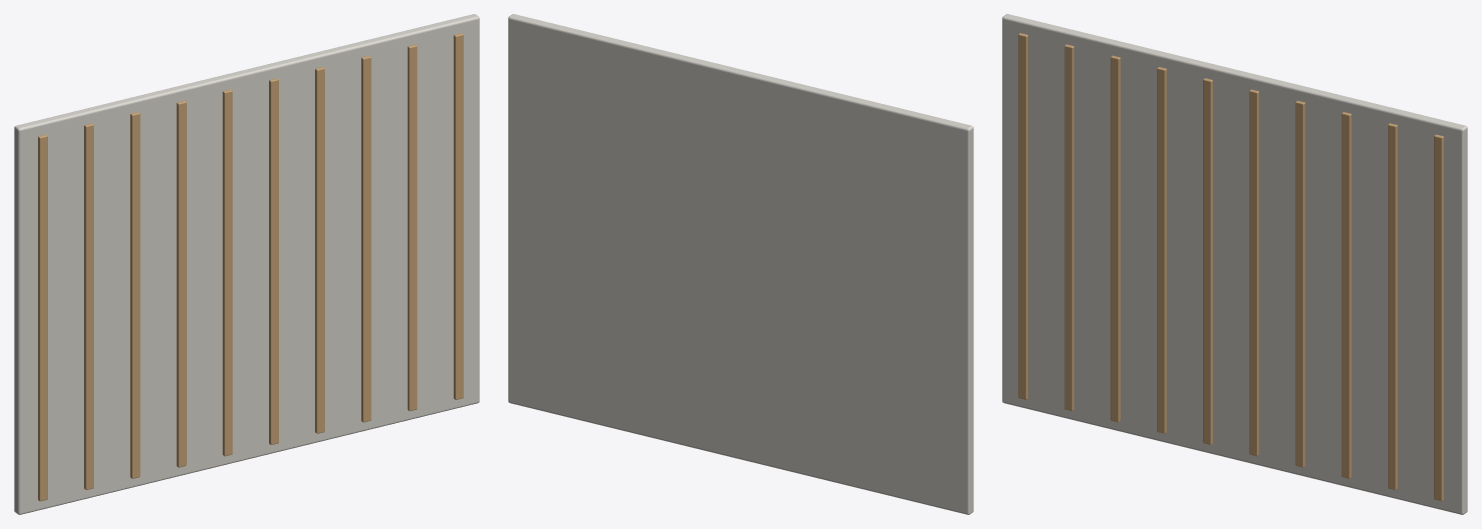
File: feature-wall.glb
3 views of the same model, side by side, from view 1: azimuth 30°, elevation 25°; view 2: azimuth 150°, elevation 25°; view 3: azimuth 330°, elevation 25° (orthographic).
Parts seen in each view (by area): view 1: CANONICAL backing, ACCENT oak reveal 10, ACCENT oak reveal 3, ACCENT oak reveal 5, ACCENT oak reveal 8, ACCENT oak reveal 9, ACCENT oak reveal 4, ACCENT oak reveal 1, ACCENT oak reveal 2, ACCENT oak reveal 6, ACCENT oak reveal 7; view 2: CANONICAL backing; view 3: CANONICAL backing, ACCENT oak reveal 1, ACCENT oak reveal 8, ACCENT oak reveal 2, ACCENT oak reveal 3, ACCENT oak reveal 6, ACCENT oak reveal 7, ACCENT oak reveal 10, ACCENT oak reveal 9, ACCENT oak reveal 4, ACCENT oak reveal 5.
Boxes of the visible parts, x1,y1,x2,y2 form: CANONICAL backing: [14, 14, 479, 514]; ACCENT oak reveal 10: [453, 33, 463, 399]; ACCENT oak reveal 3: [130, 112, 140, 478]; ACCENT oak reveal 5: [222, 89, 232, 456]; ACCENT oak reveal 8: [361, 55, 371, 422]; ACCENT oak reveal 9: [407, 44, 417, 411]; ACCENT oak reveal 4: [176, 100, 186, 467]; ACCENT oak reveal 1: [38, 134, 47, 501]; ACCENT oak reveal 2: [84, 123, 93, 490]; ACCENT oak reveal 6: [269, 78, 278, 444]; ACCENT oak reveal 7: [315, 67, 324, 433]; CANONICAL backing: [508, 14, 973, 514]; CANONICAL backing: [1002, 14, 1467, 514]; ACCENT oak reveal 1: [1018, 33, 1028, 399]; ACCENT oak reveal 8: [1341, 112, 1351, 478]; ACCENT oak reveal 2: [1064, 44, 1074, 411]; ACCENT oak reveal 3: [1110, 55, 1120, 422]; ACCENT oak reveal 6: [1249, 89, 1259, 456]; ACCENT oak reveal 7: [1295, 100, 1305, 467]; ACCENT oak reveal 10: [1434, 134, 1443, 501]; ACCENT oak reveal 9: [1388, 123, 1397, 490]; ACCENT oak reveal 4: [1157, 67, 1166, 433]; ACCENT oak reveal 5: [1203, 78, 1212, 444].
Bounding box in the file's own units: 3 × 2.4 × 0.0855.
